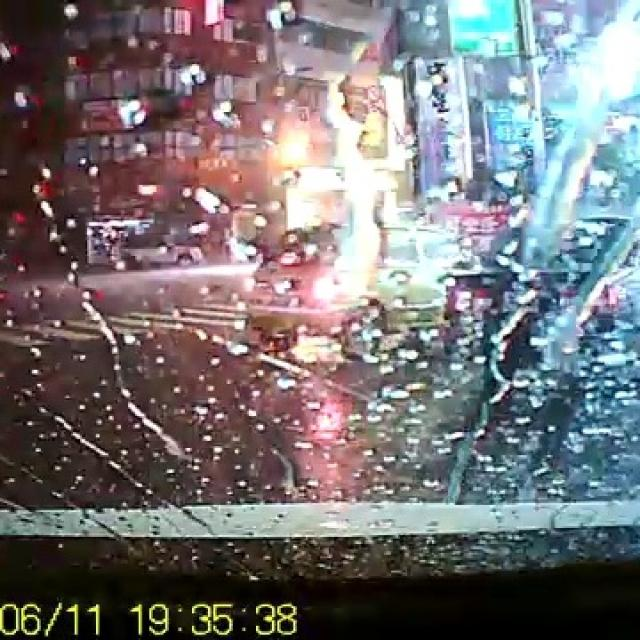Car: (442, 210, 638, 409), (238, 217, 485, 361), (82, 213, 201, 270)
